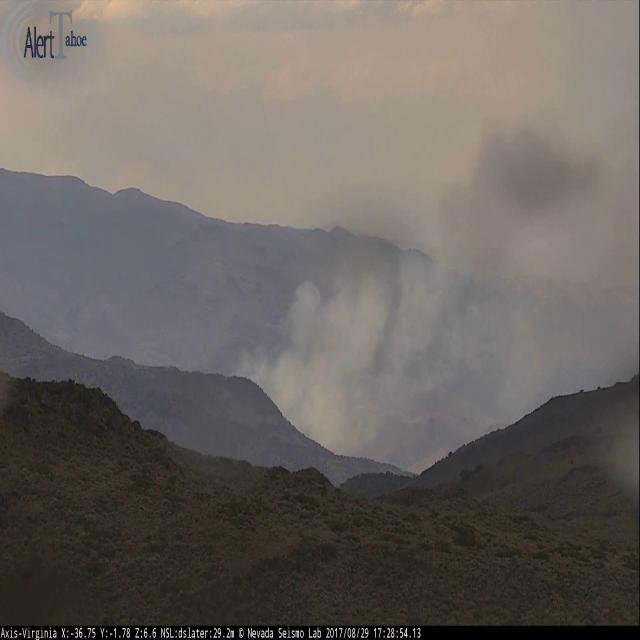smoke: (234, 94, 640, 464)
